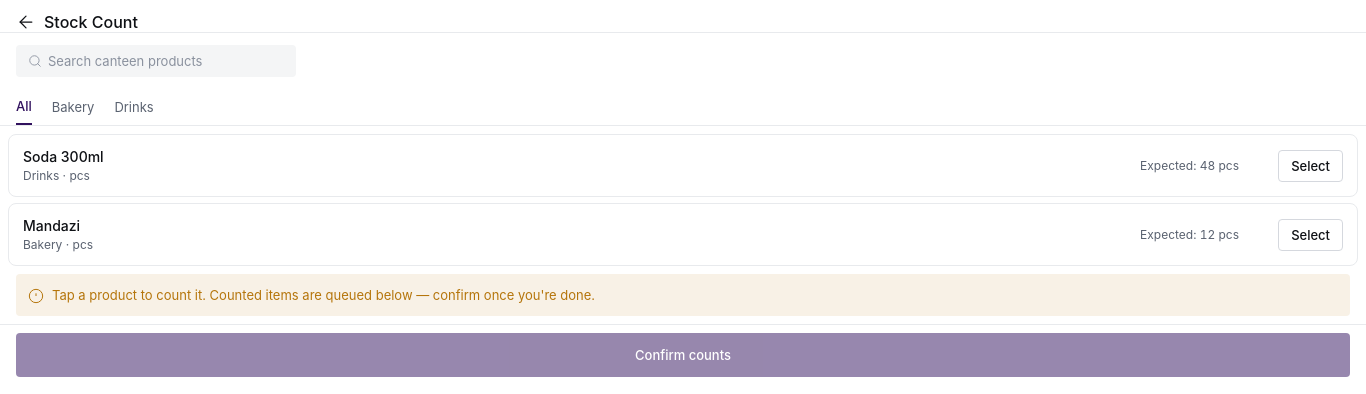
Test: K1 Canteen Stock Count Screen › selecting a row expands it in place (no navigation) defaulted to the expected quantity
This screenshot has width=1366, height=394.
Expected: the text "Soda 300ml" is shown, [23,148,104,165]
Click the button "Select" in the row of "48".
click(1311, 166)  # box [1278,150,1343,182]
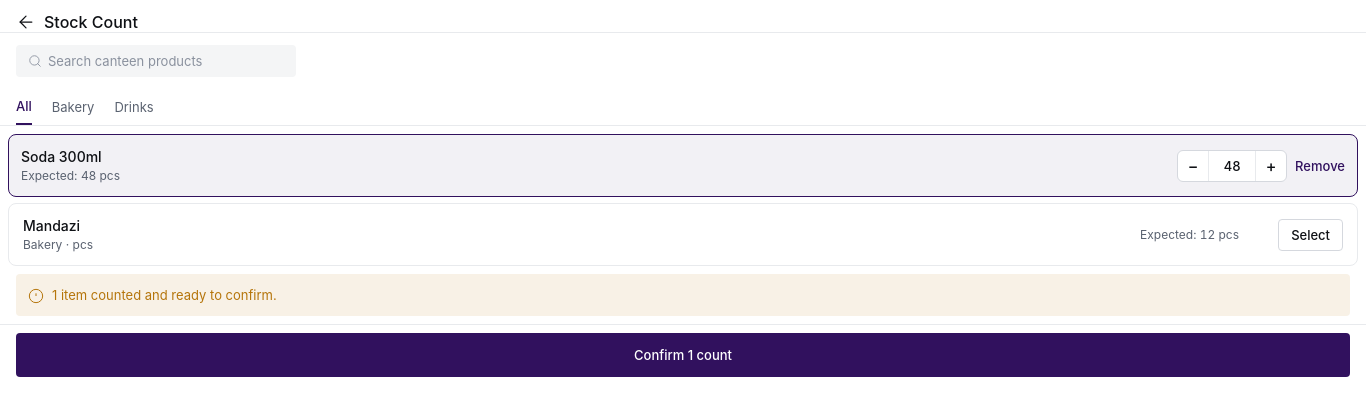
Expected: the search field with placeholder "Search canteen products" is shown, [48,52,284,70]
Expected: the number field named "Soda 300ml counted quantity" holds "48", [1224,158,1240,174]
